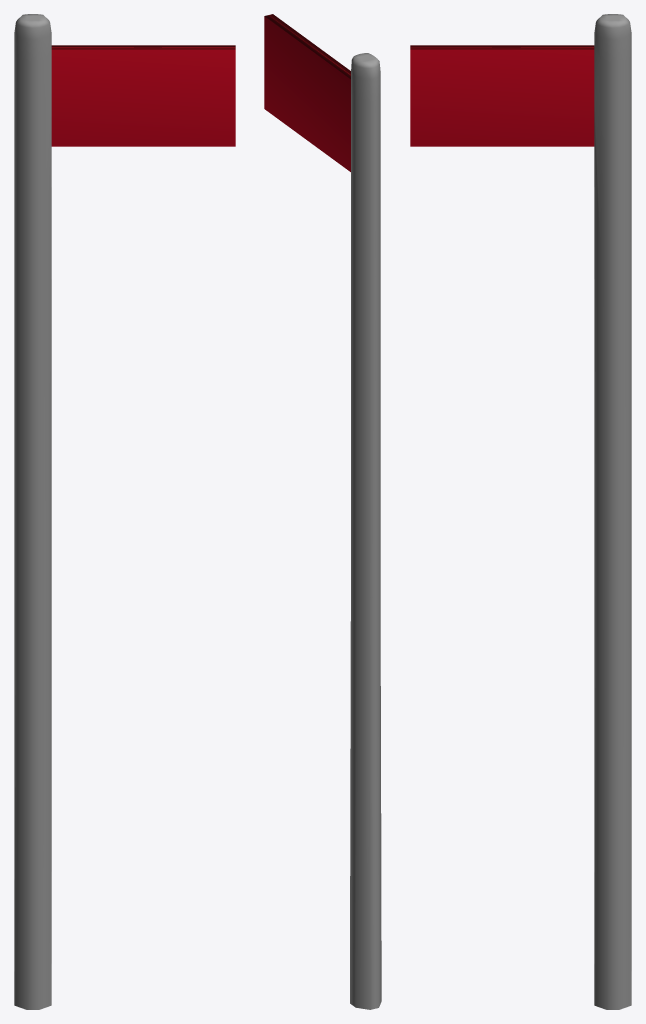
File: Hoyo Palo 1.fbx
The picture shows the model from 3 angles, left to right: view 1: azimuth 90°, elevation 25°; view 2: azimuth 210°, elevation 25°; view 3: azimuth 270°, elevation 25°; orthographic projection. The views are drawn at different scales.
Visible parts, largest first — view 1: pCube8; view 2: pCube8; view 3: pCube8.
Boxes of the visible parts, x1,y1,x2,y2 form: pCube8: (14,14,235,1009); pCube8: (264,14,381,1009); pCube8: (410,14,631,1009).
Size of the model in its own units: 20.69 by 722 by 147.
